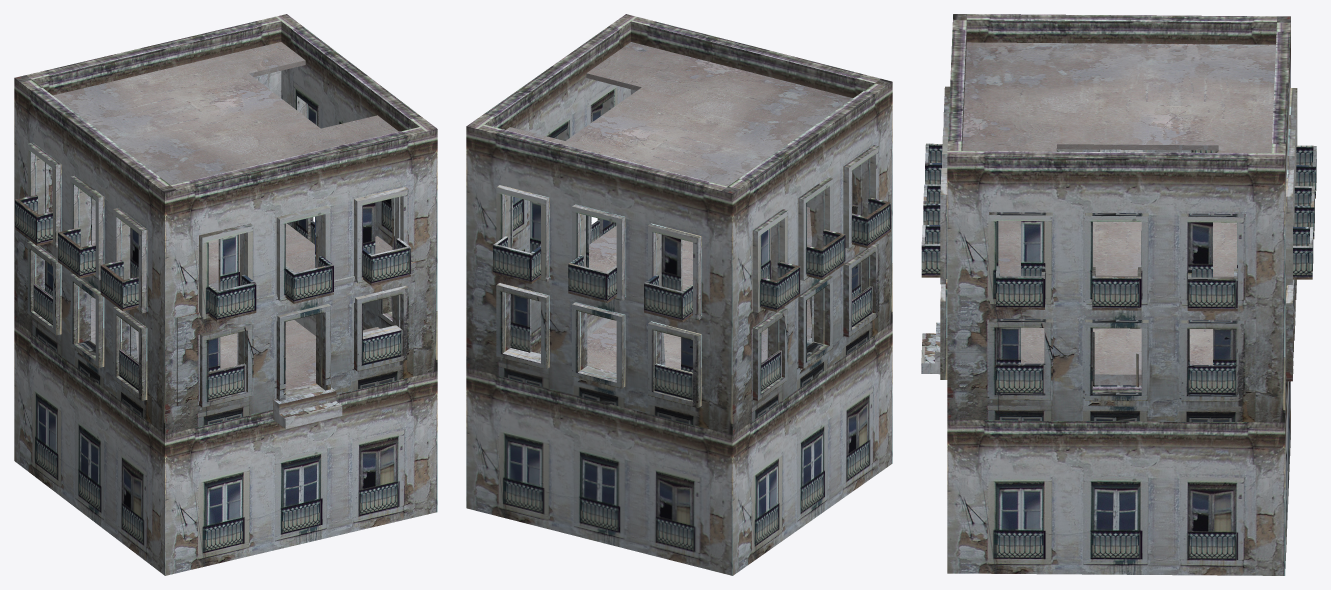
File: BagBuilding22_140.fbx
3 renders of one model, left to right at view 1: azimuth 30°, elevation 25°; view 2: azimuth 150°, elevation 25°; view 3: azimuth 270°, elevation 25°, orthographic. The views are drawn at different scales.
Visible parts, largest first — view 1: main140, floor140; view 2: main140, floor140; view 3: main140, floor140.
Part boxes in pixels (left/top/right/bottom): main140: left=14, top=14, right=437, bottom=575; floor140: left=53, top=42, right=398, bottom=390; main140: left=466, top=14, right=892, bottom=575; floor140: left=506, top=42, right=852, bottom=373; main140: left=921, top=14, right=1316, bottom=575; floor140: left=962, top=42, right=1275, bottom=385.
Bounding box in the file's own units: 19.65 × 22.81 × 19.63.
